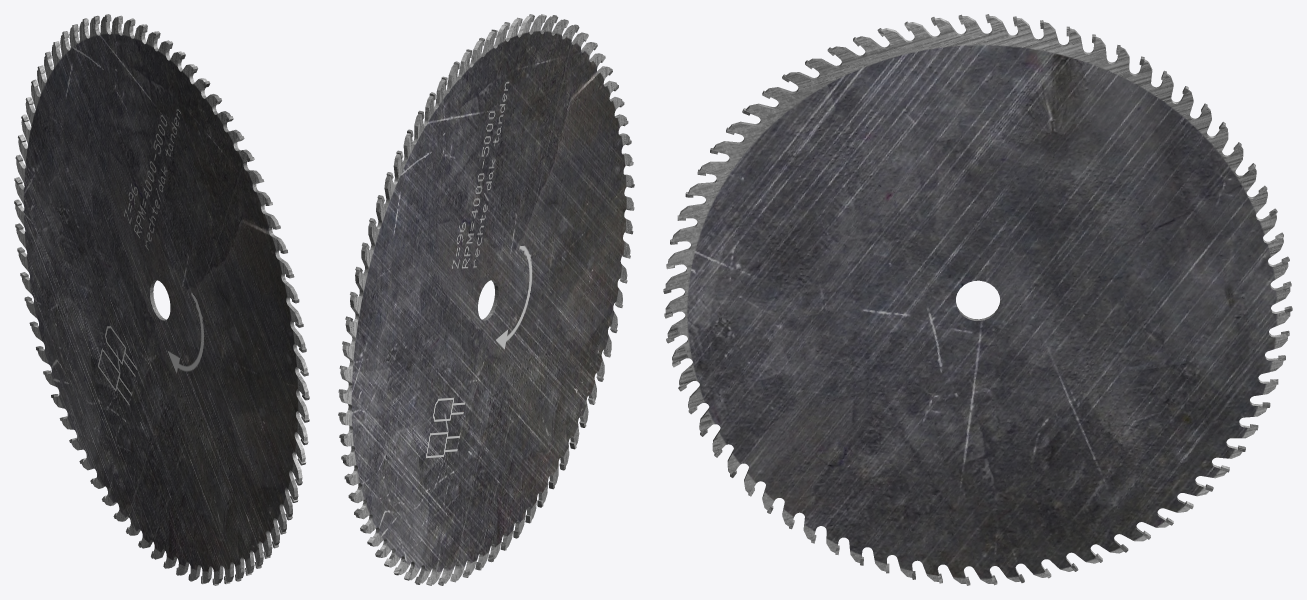
The model's file is Zaag (4).fbx.
3 renders of one model, left to right at view 1: azimuth 30°, elevation 25°; view 2: azimuth 150°, elevation 25°; view 3: azimuth 270°, elevation 25°, orthographic. The views are drawn at different scales.
Visible parts, largest first — view 1: zaagblad_plaatmateriaal_kunststof; view 2: zaagblad_plaatmateriaal_kunststof; view 3: zaagblad_plaatmateriaal_kunststof.
Part boxes in pixels (<box>): zaagblad_plaatmateriaal_kunststof: <box>14,14,309,585</box>; zaagblad_plaatmateriaal_kunststof: <box>338,14,634,585</box>; zaagblad_plaatmateriaal_kunststof: <box>663,14,1292,585</box>.
Size of the model in its own units: 0.2474 by 28.19 by 28.19.
1 material, 1 textured.
